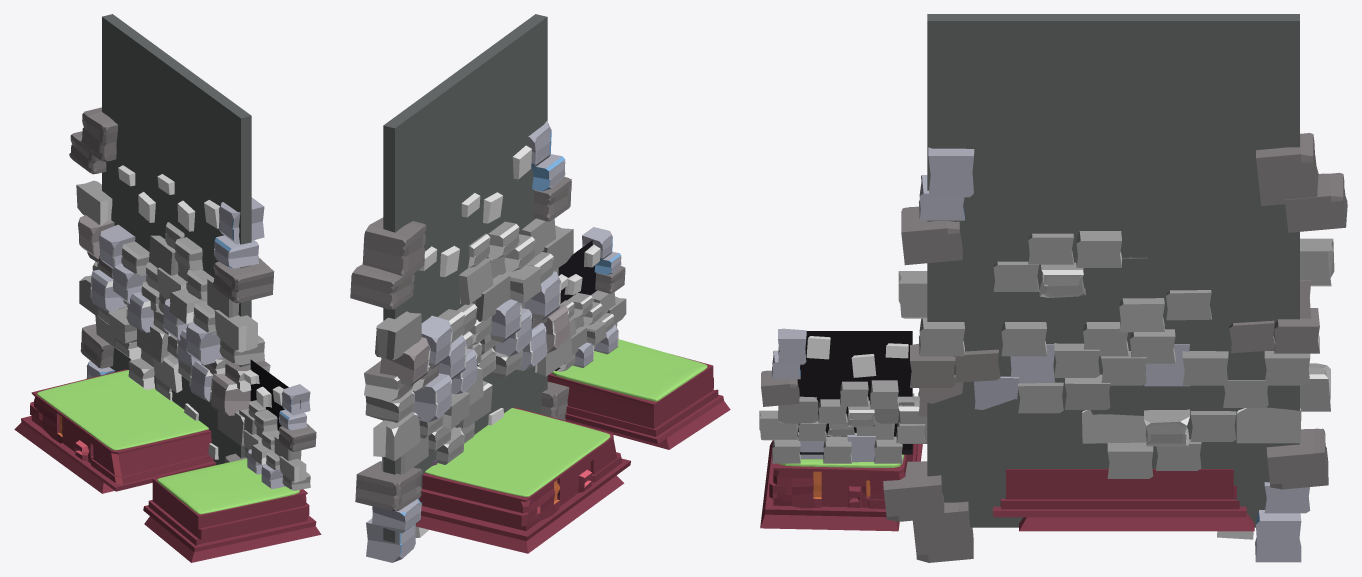
Rendered from sceneryTest.fbx.
The picture shows the model from 3 angles, left to right: view 1: azimuth 30°, elevation 25°; view 2: azimuth 150°, elevation 25°; view 3: azimuth 270°, elevation 25°; orthographic projection. The views are drawn at different scales.
Visible parts, largest first — view 1: Plane, Cube, Cube.002, Cube.001, Cube.003, Cube.091, Cube.085, Cube.067, Cube.010, Cube.061, Cube.093, Cube.092 (+36 smaller); view 2: Plane, Cube, Cube.001, Cube.002, Cube.003, Cube.085, Cube.006, Cube.060, Cube.061, Cube.030, Cube.087, Cube.004 (+37 smaller); view 3: Plane, Cube, Cube.002, Plane.001, Cube.085, Cube.006, Cube.012, Cube.037, Cube.091, Cube.060, Cube.028, Cube.004 (+43 smaller).
Boxes of the visible parts, x1=… form: Plane: x1=102, y1=14, x2=251, y2=464; Cube: x1=14, y1=369, x2=216, y2=493; Cube.002: x1=143, y1=473, x2=321, y2=562; Cube.001: x1=37, y1=370, x2=208, y2=450; Cube.003: x1=157, y1=458, x2=299, y2=514; Cube.091: x1=212, y1=257, x2=274, y2=303; Cube.085: x1=80, y1=107, x2=118, y2=161; Cube.067: x1=214, y1=310, x2=257, y2=352; Cube.010: x1=209, y1=373, x2=250, y2=415; Cube.061: x1=76, y1=180, x2=112, y2=225; Cube.093: x1=219, y1=197, x2=264, y2=244; Cube.092: x1=213, y1=235, x2=258, y2=268; Plane: x1=383, y1=14, x2=547, y2=542; Cube: x1=415, y1=407, x2=630, y2=553; Cube.001: x1=425, y1=408, x2=610, y2=496; Cube.002: x1=547, y1=354, x2=730, y2=449; Cube.003: x1=551, y1=339, x2=707, y2=401; Cube.085: x1=362, y1=217, x2=426, y2=278; Cube.006: x1=355, y1=461, x2=422, y2=511; Cube.060: x1=350, y1=264, x2=414, y2=309; Cube.061: x1=375, y1=311, x2=421, y2=360; Cube.030: x1=373, y1=412, x2=420, y2=461; Cube.087: x1=379, y1=337, x2=430, y2=386; Cube.004: x1=366, y1=518, x2=415, y2=562; Plane: x1=927, y1=14, x2=1299, y2=527; Cube: x1=993, y1=469, x2=1254, y2=531; Cube.002: x1=760, y1=440, x2=922, y2=531; Plane.001: x1=778, y1=331, x2=912, y2=454; Cube.085: x1=1256, y1=133, x2=1318, y2=206; Cube.006: x1=1266, y1=428, x2=1328, y2=489; Cube.012: x1=912, y1=501, x2=973, y2=562; Cube.037: x1=883, y1=461, x2=944, y2=521; Cube.091: x1=901, y1=206, x2=962, y2=265; Cube.060: x1=1285, y1=172, x2=1347, y2=232; Cube.028: x1=1236, y1=407, x2=1301, y2=443; Cube.004: x1=1255, y1=510, x2=1301, y2=562.
Size of the model in its own units: 1091 by 3044 by 3047.
